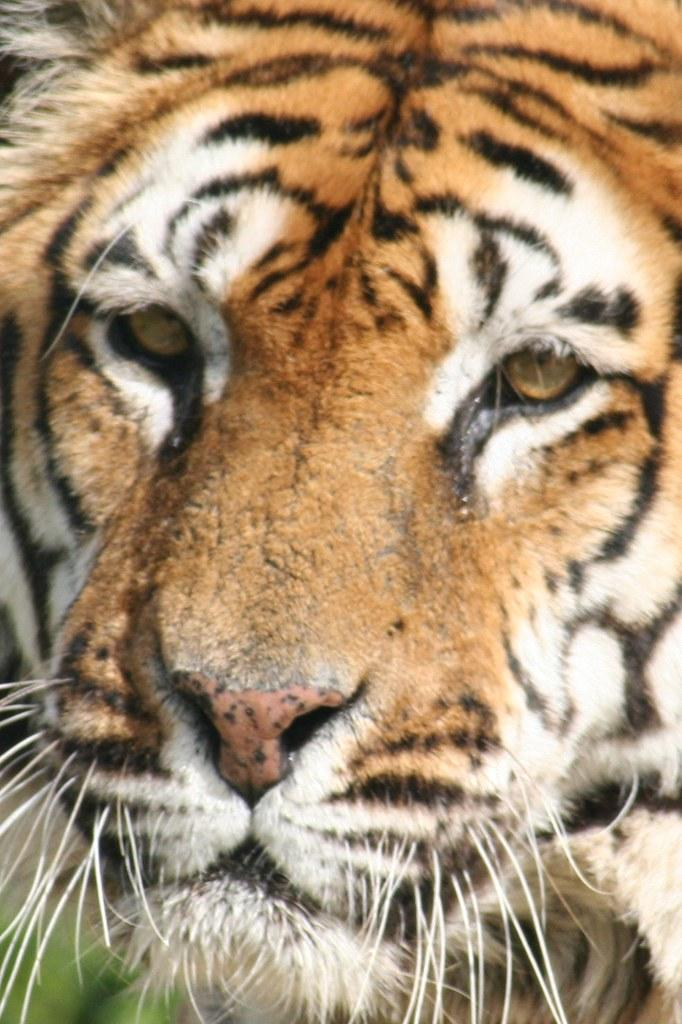tiger: (1, 1, 681, 1024)
